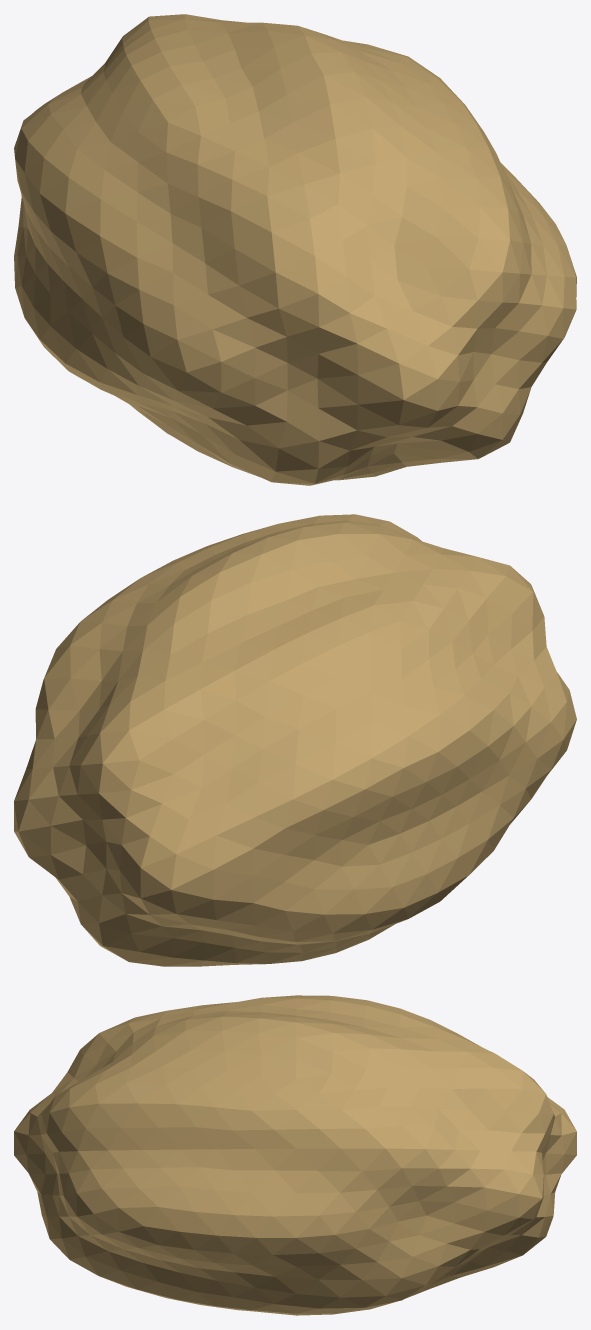
The model's file is Bana_Exotic_Fruit_Pod.glb.
3 renders of one model, top to bottom at view 1: azimuth 30°, elevation 25°; view 2: azimuth 150°, elevation 25°; view 3: azimuth 270°, elevation 25°, orthographic. The views are drawn at different scales.
Visible parts, largest first — view 1: world; view 2: world; view 3: world.
Boxes of the visible parts, x1,y1,x2,y2 form: world: (14, 14, 576, 485); world: (14, 514, 576, 966); world: (14, 995, 576, 1315).
Size of the model in its own units: 1.12 by 0.9398 by 1.67.
